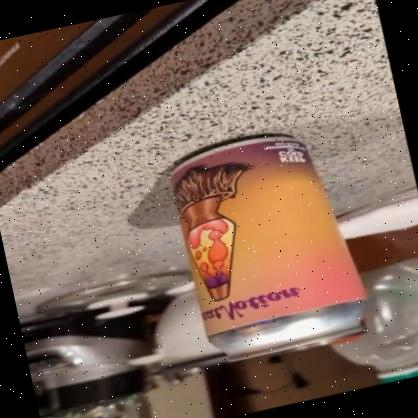can: (162, 120, 374, 370)
